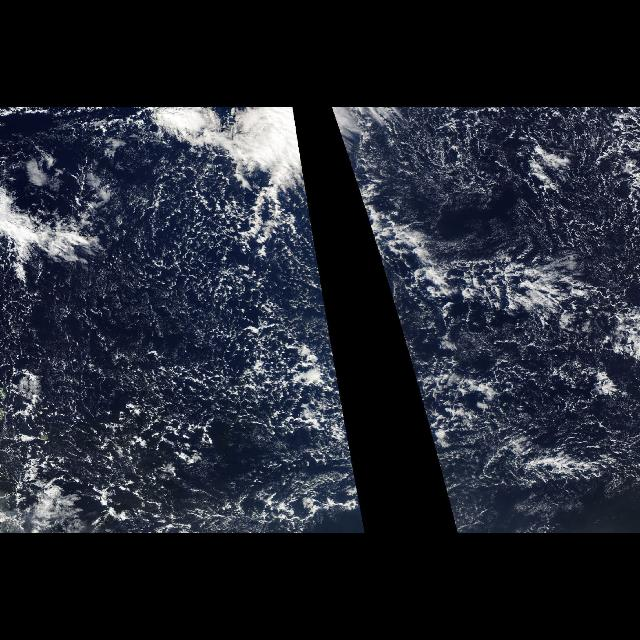Gravel: (11, 108, 362, 530), (330, 107, 638, 521)
